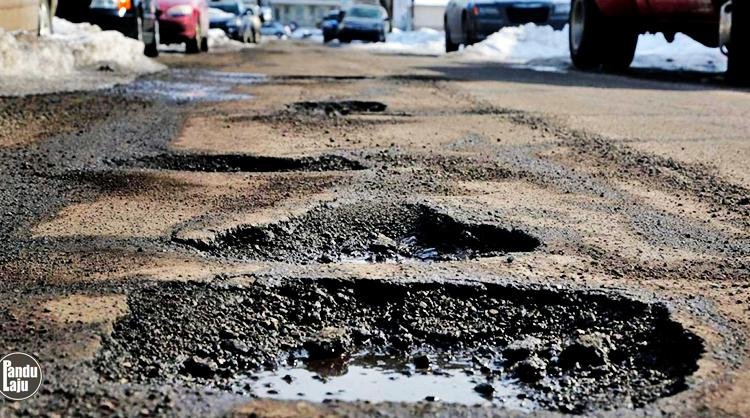Pothole: (80, 263, 702, 418), (190, 194, 529, 271), (72, 127, 396, 196), (225, 102, 406, 138), (245, 49, 374, 96), (383, 57, 462, 107)
